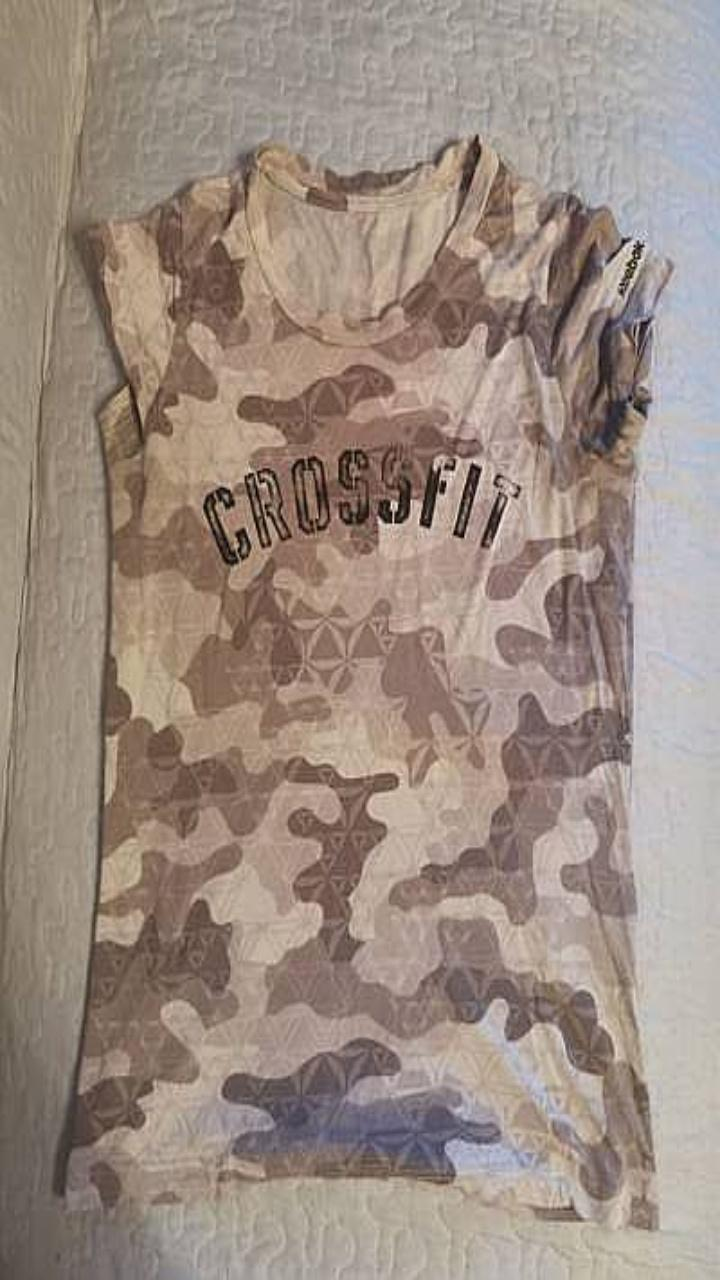T-Shirt: (65, 134, 673, 1229)
